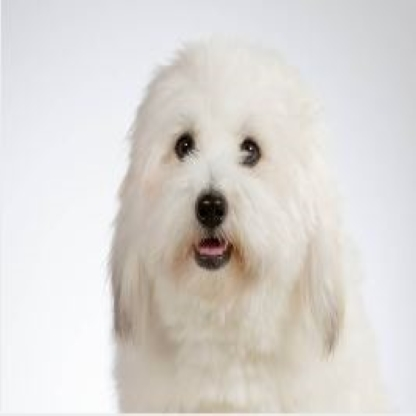maltese: (91, 32, 352, 407)
